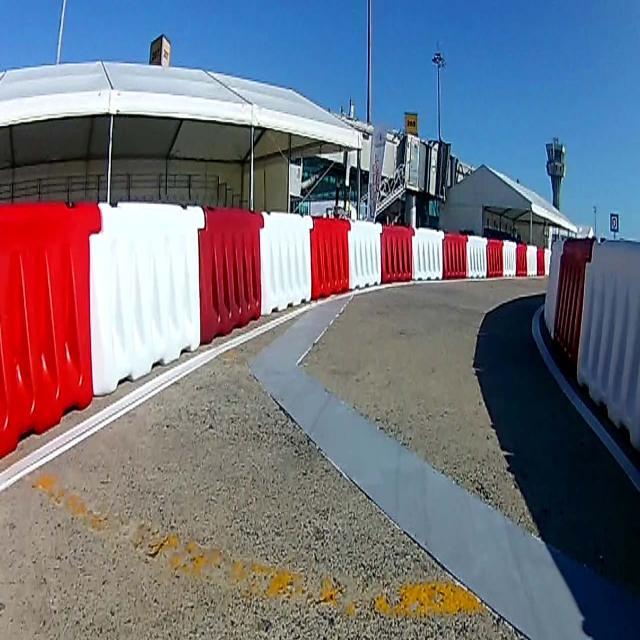durak: (610, 213, 618, 231)
